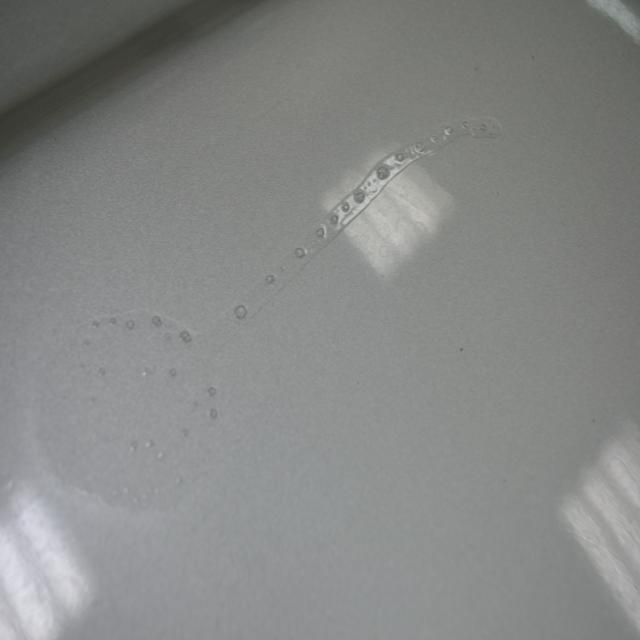dirt: (529, 53, 536, 62), (458, 345, 465, 354)
runs: (36, 114, 515, 516)
